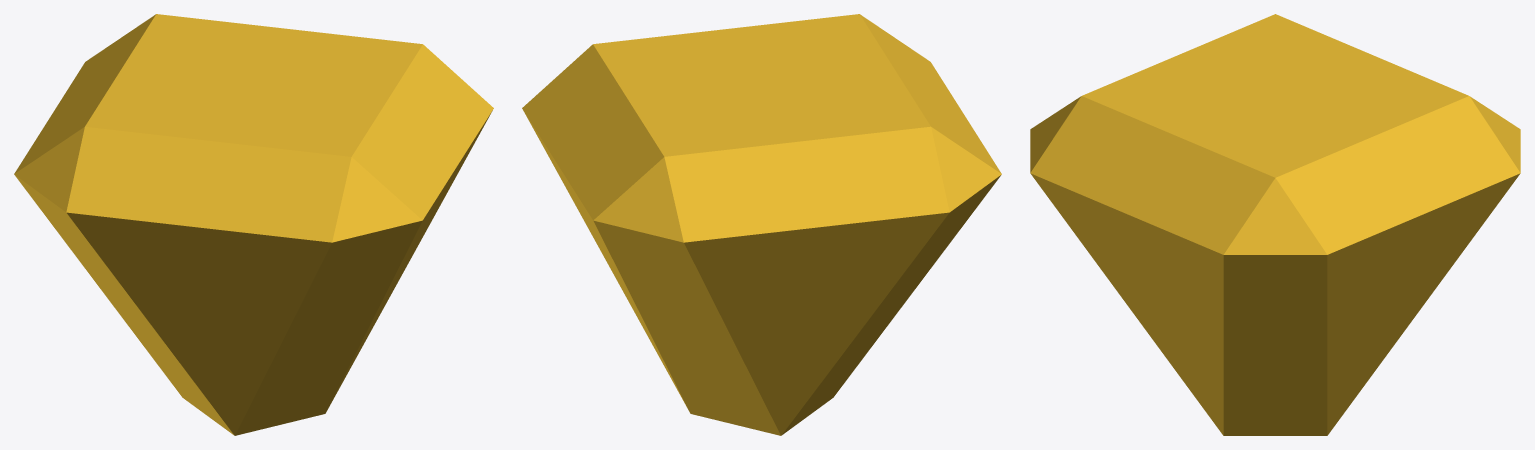
The model's file is gold_item.glb.
3 renders of one model, left to right at view 1: azimuth 30°, elevation 25°; view 2: azimuth 150°, elevation 25°; view 3: azimuth 270°, elevation 25°, orthographic.
Visible parts, largest first — view 1: Cone; view 2: Cone; view 3: Cone.
Boxes of the visible parts, x1,y1,x2,y2 form: Cone: (14,14,493,435); Cone: (522,14,1001,435); Cone: (1030,14,1520,435).
Bounding box in the file's own units: 0.7257 × 0.5194 × 0.7257.
